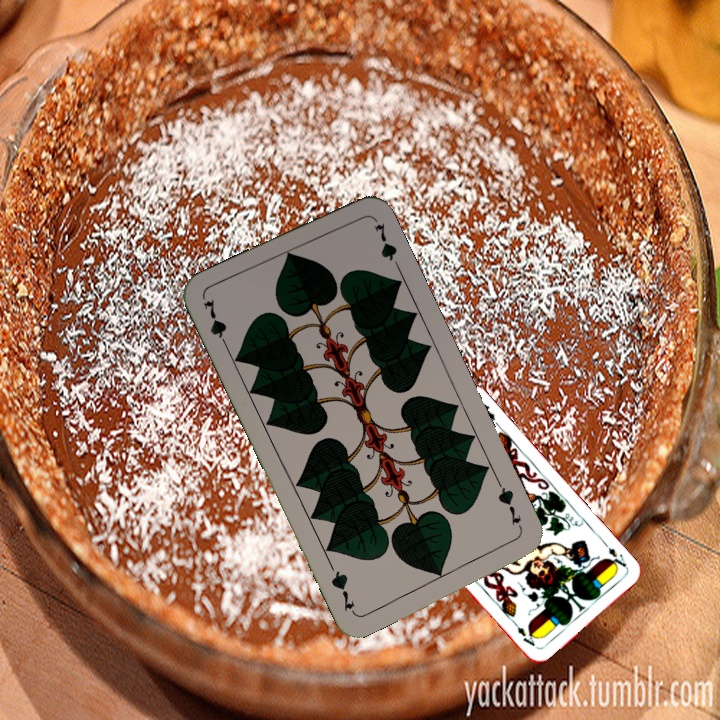EA: (598, 537, 630, 572)
G7: (199, 295, 232, 352), (493, 478, 526, 534)
